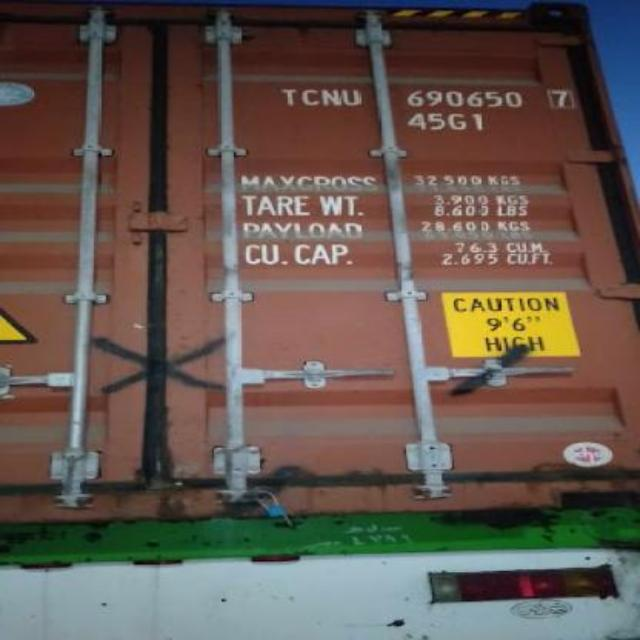0: (444, 85, 464, 108), (506, 85, 524, 108)
5: (484, 84, 504, 112)
6: (402, 85, 424, 109), (464, 84, 484, 108)
7: (548, 87, 576, 107)
9: (424, 84, 444, 108)
C: (300, 81, 322, 107)
N: (324, 83, 340, 107)
T: (268, 83, 300, 107)
U: (340, 85, 366, 109)
